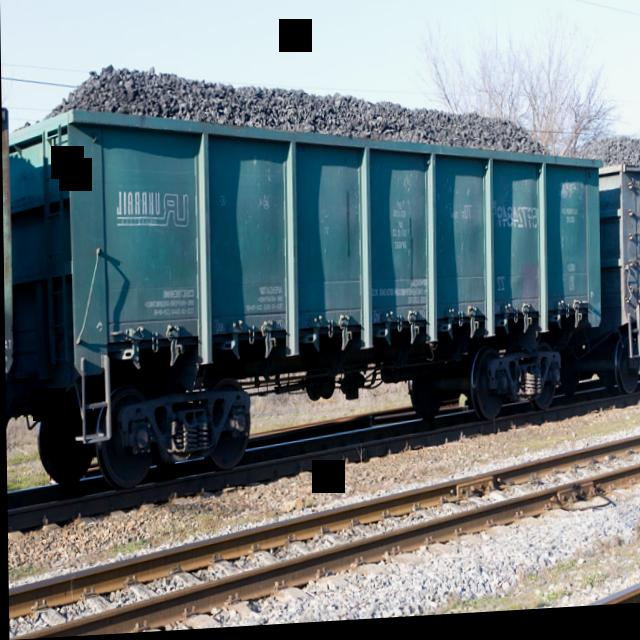gondola: (14, 45, 605, 494), (597, 122, 640, 404)
